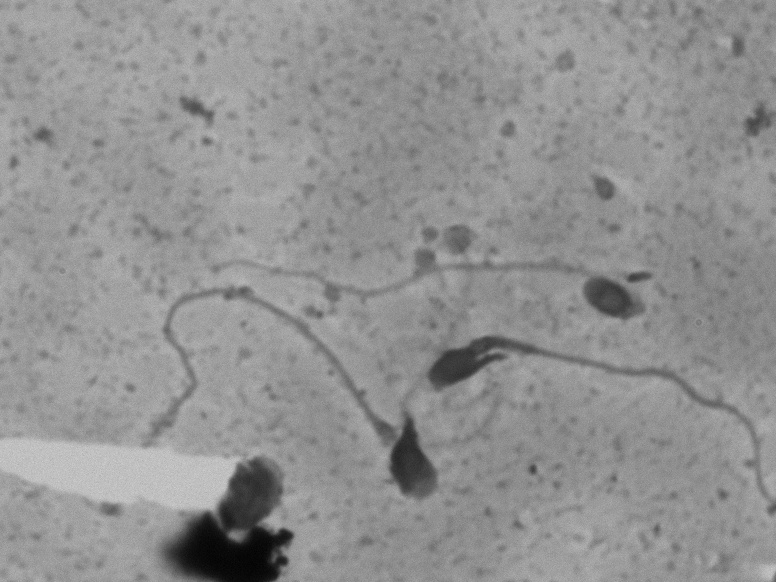Abnormal: (418, 318, 774, 513), (199, 218, 684, 351)
